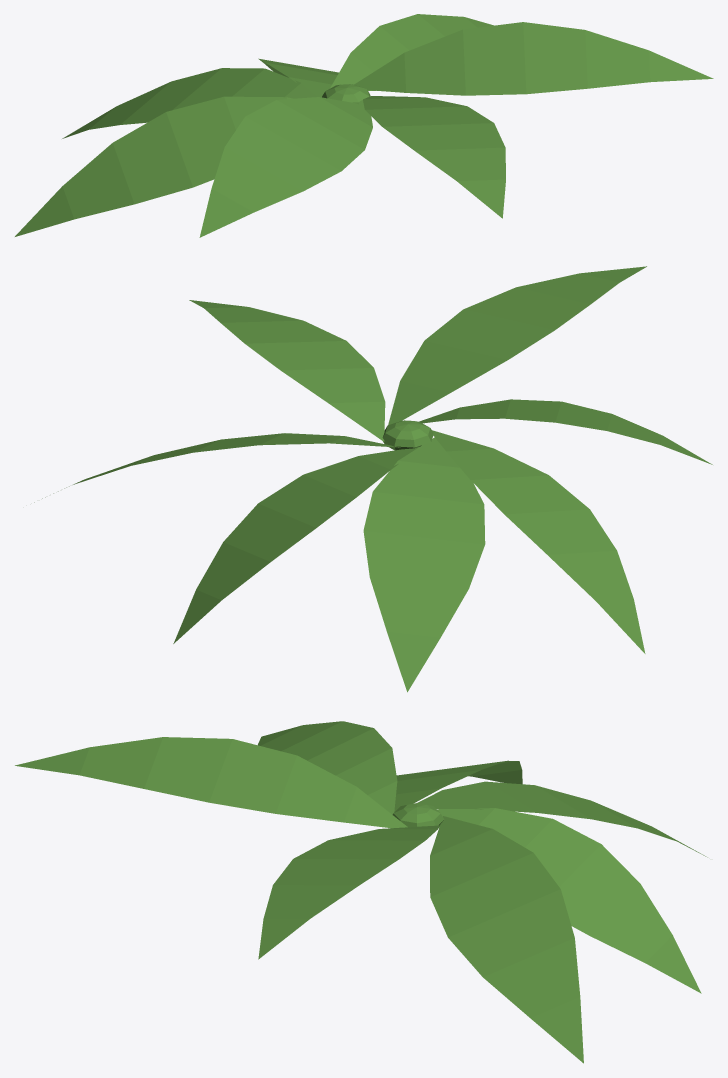
File: fern.fbx
The picture shows the model from 3 angles, top to bottom: view 1: azimuth 30°, elevation 25°; view 2: azimuth 150°, elevation 25°; view 3: azimuth 270°, elevation 25°; orthographic projection. The views are drawn at different scales.
Visible parts, largest first — view 1: fern; view 2: fern; view 3: fern.
Boxes of the visible parts, left/top/right/bottom form: fern: left=15, top=14, right=713, bottom=237; fern: left=34, top=266, right=712, bottom=692; fern: left=15, top=721, right=707, bottom=1063.
Size of the model in its own units: 0.7704 by 0.2219 by 0.7704.
